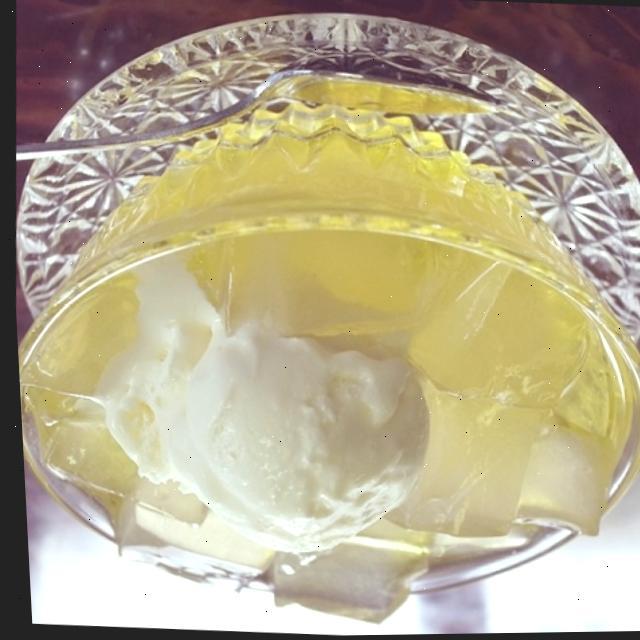蛋糕甜品: (1, 16, 640, 640)
